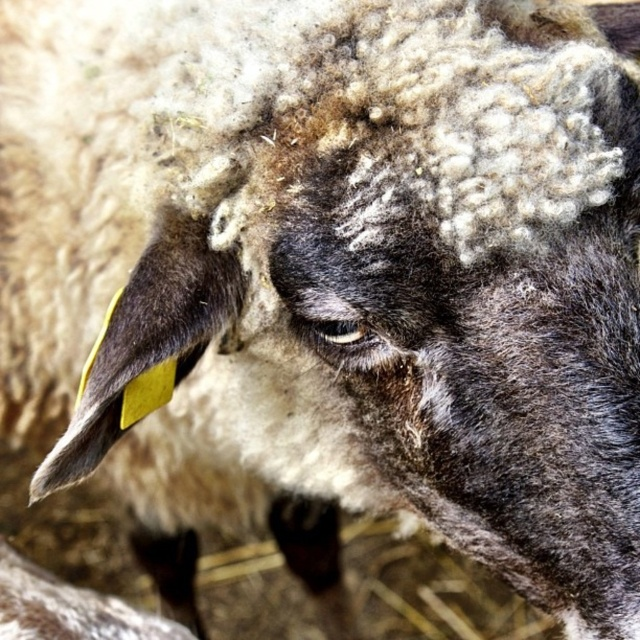Sheep: (0, 53, 640, 640)
